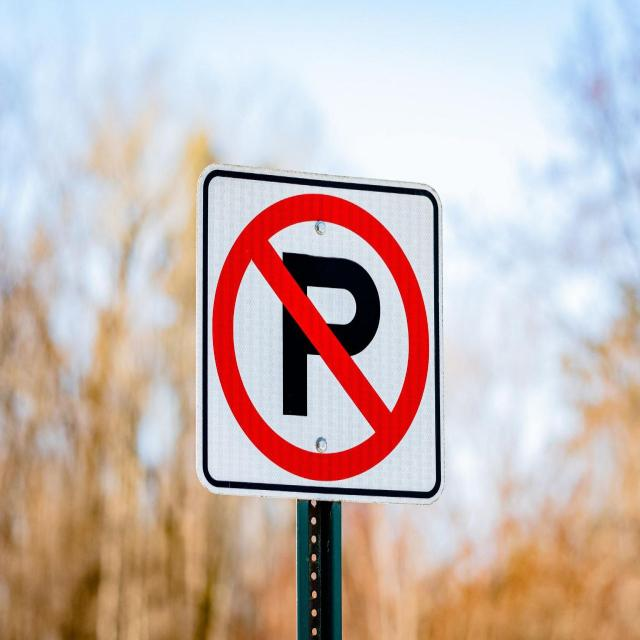No_parking: (217, 201, 429, 476)
